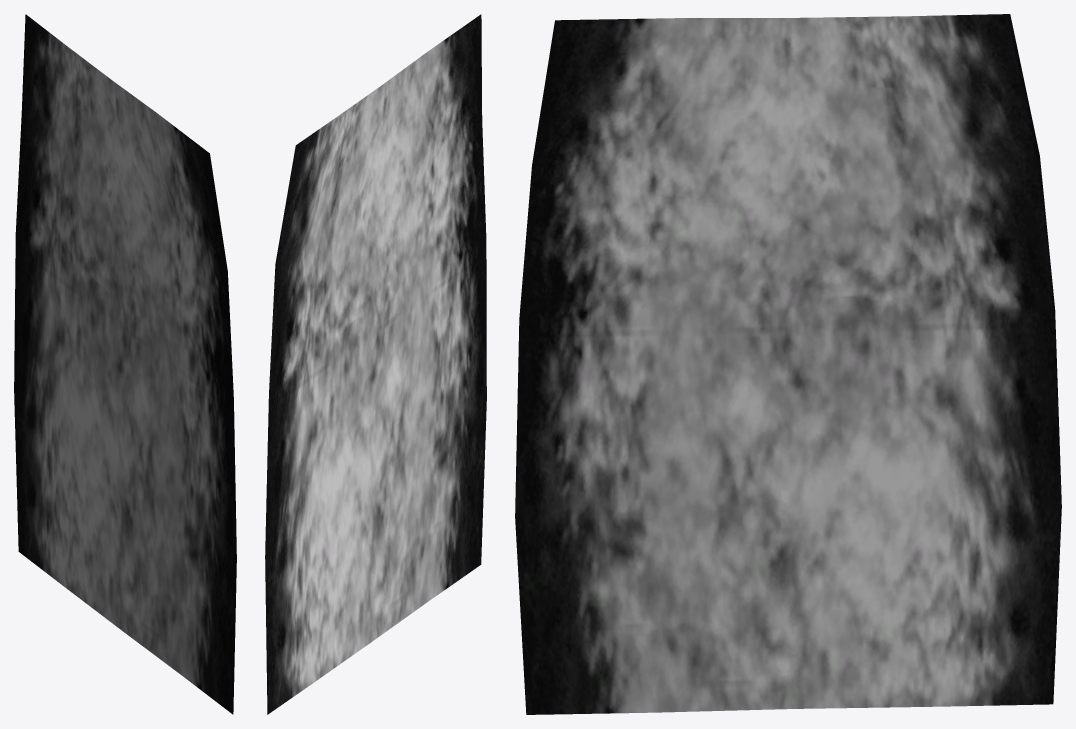
File: waterfalls_set2_med_chop.obj
The picture shows the model from 3 angles, left to right: view 1: azimuth 30°, elevation 25°; view 2: azimuth 150°, elevation 25°; view 3: azimuth 270°, elevation 25°; orthographic projection. The views are drawn at different scales.
Visible parts, largest first — view 1: waterfalls_set2_med_chop; view 2: waterfalls_set2_med_chop; view 3: waterfalls_set2_med_chop.
Boxes of the visible parts, left/top/right/bottom form: waterfalls_set2_med_chop: left=14, top=14, right=236, bottom=714; waterfalls_set2_med_chop: left=265, top=14, right=486, bottom=714; waterfalls_set2_med_chop: left=515, top=14, right=1061, bottom=714.
Bounding box in the file's own units: 0.6896 × 30.17 × 21.56.
1 material, 1 textured.
